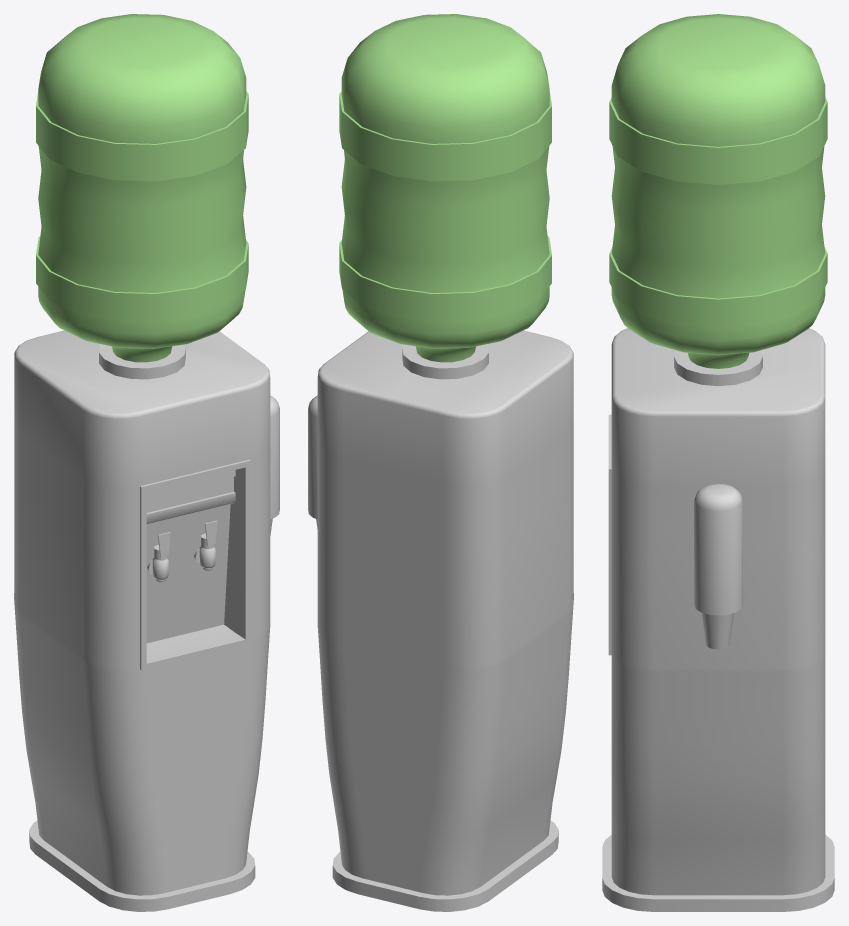
File: Water.fbx
3 renders of one model, left to right at view 1: azimuth 30°, elevation 25°; view 2: azimuth 150°, elevation 25°; view 3: azimuth 270°, elevation 25°, orthographic.
Visible parts, largest first — view 1: Cube.001; view 2: Cube.001; view 3: Cube.001.
Part boxes in pixels (left/top/right/bottom): Cube.001: left=14, top=14, right=279, bottom=911; Cube.001: left=308, top=14, right=573, bottom=911; Cube.001: left=602, top=14, right=834, bottom=911.
Size of the model in its own units: 250 by 859 by 218.
